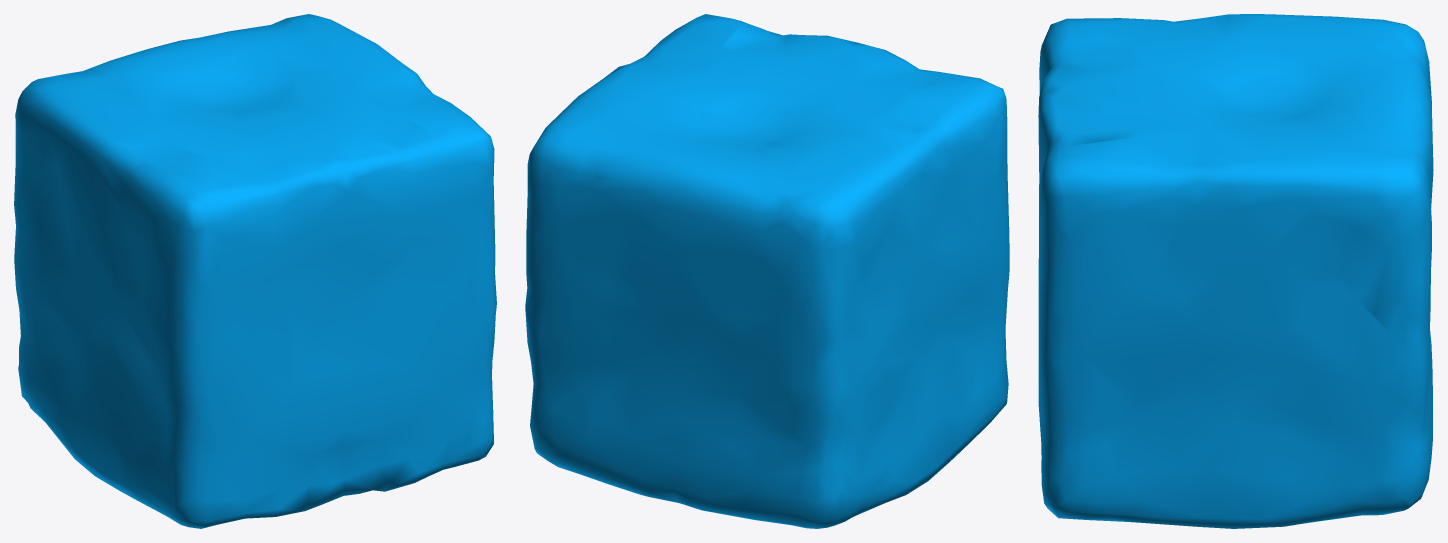
File: animatedicecube.fbx
The picture shows the model from 3 angles, left to right: view 1: azimuth 30°, elevation 25°; view 2: azimuth 150°, elevation 25°; view 3: azimuth 270°, elevation 25°; orthographic projection. The views are drawn at different scales.
Parts seen in each view (by area): view 1: icecube; view 2: icecube; view 3: icecube.
Part boxes in pixels (x1,y1,x2,y2): icecube: (14,14,496,528); icecube: (525,14,1009,528); icecube: (1038,14,1433,528).
Size of the model in its own units: 1000 by 1000 by 1000.
